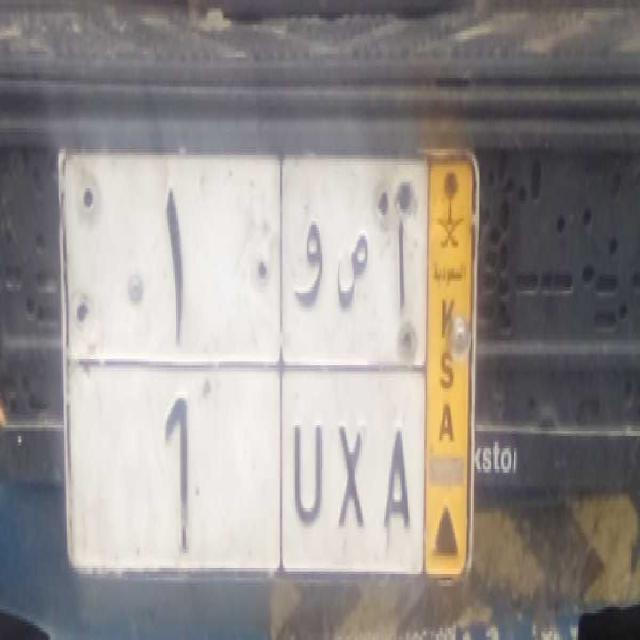license_plate: (64, 354, 427, 578)
